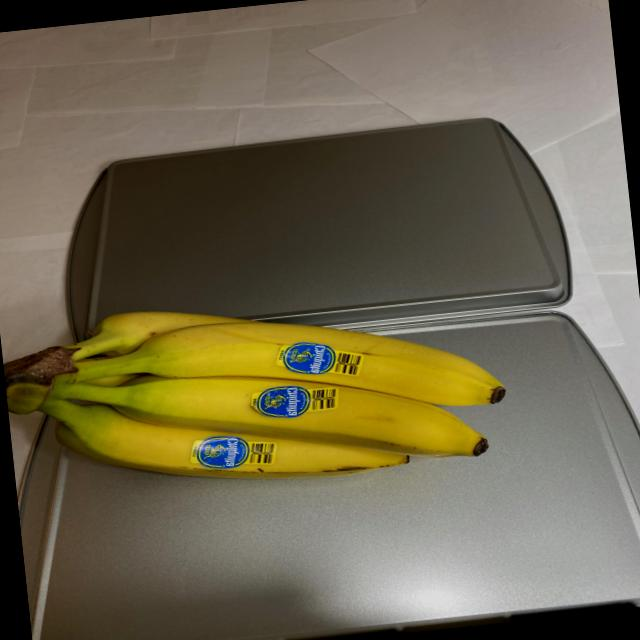banana: (13, 269, 518, 531)
